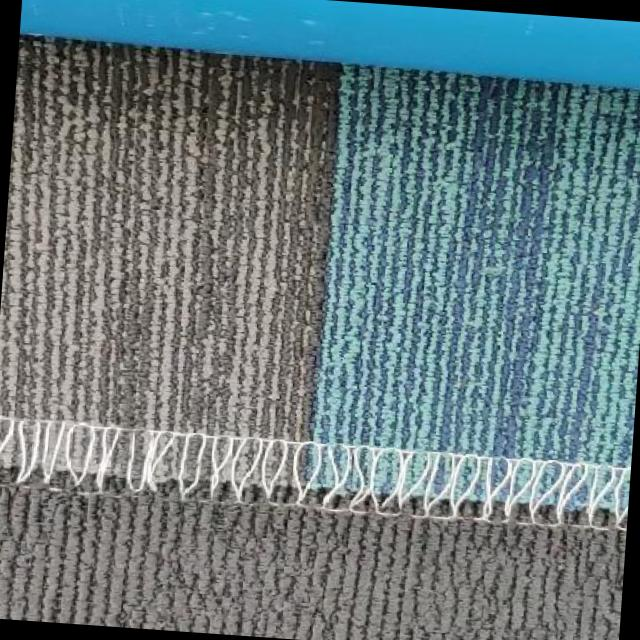gray stitch: (0, 420, 631, 540)
